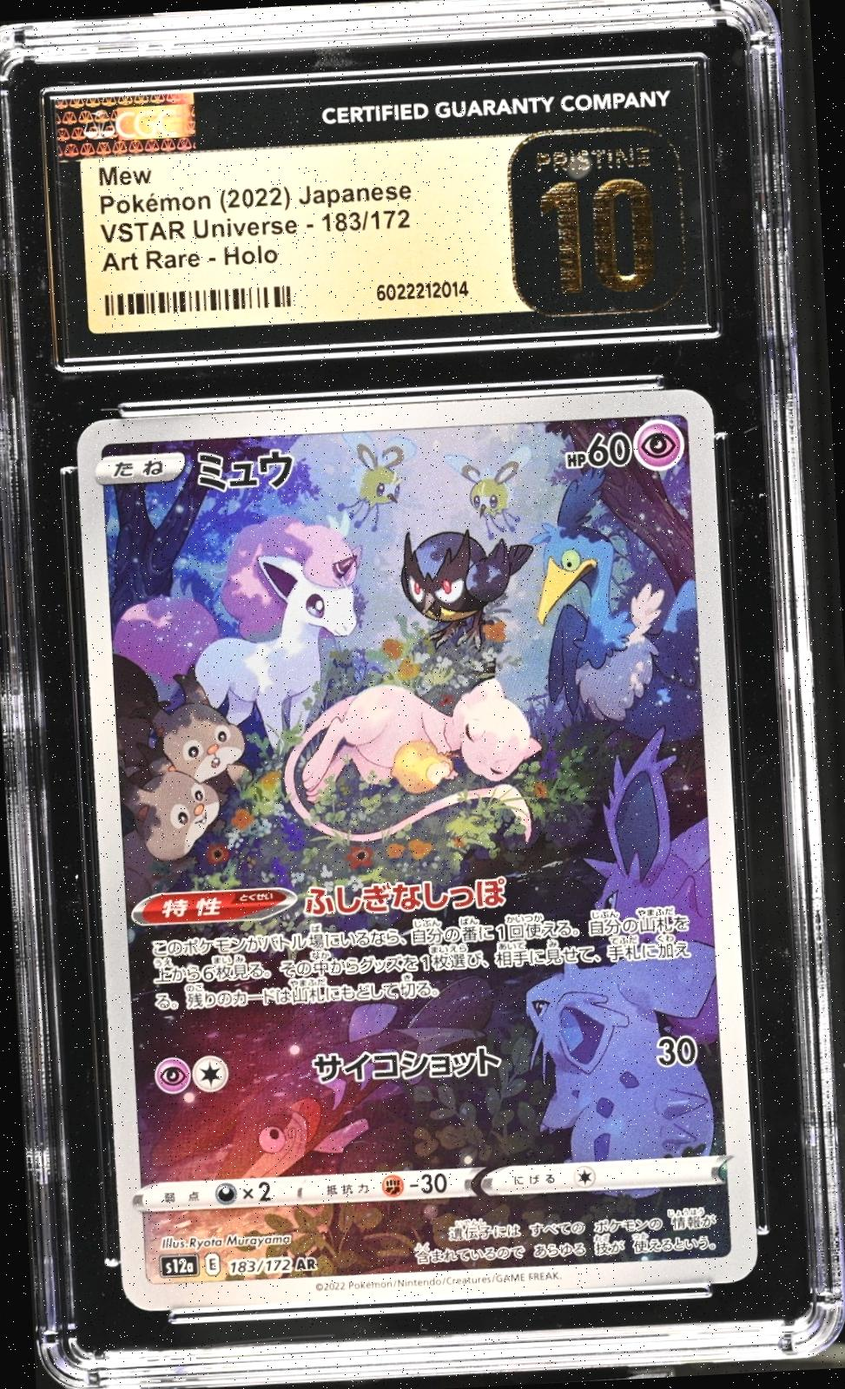card-2UtV: (75, 388, 758, 1312)
